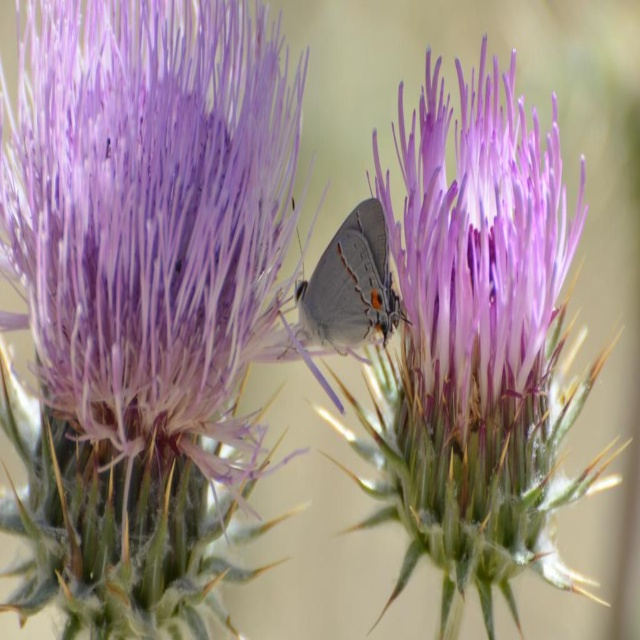Butterfly: (276, 196, 416, 361)
